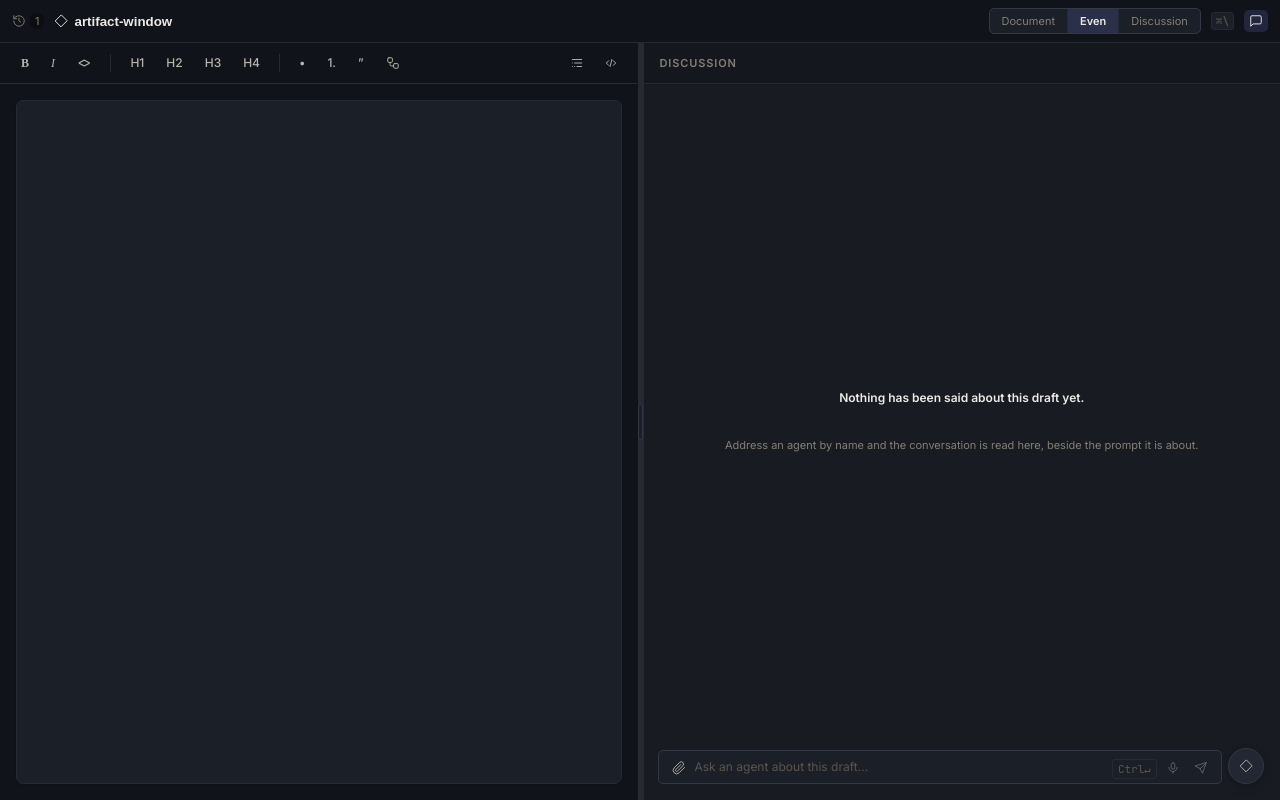
New Artifact workspace — Copy as Source › NAW-FR-NVYZ, NAW-FR-FJXX: an empty prompt copies empty text
The width and height of the screenshot is (1280, 800).
Click the button named "Draft actions" at (1246, 766), box [1228, 748, 1264, 784]
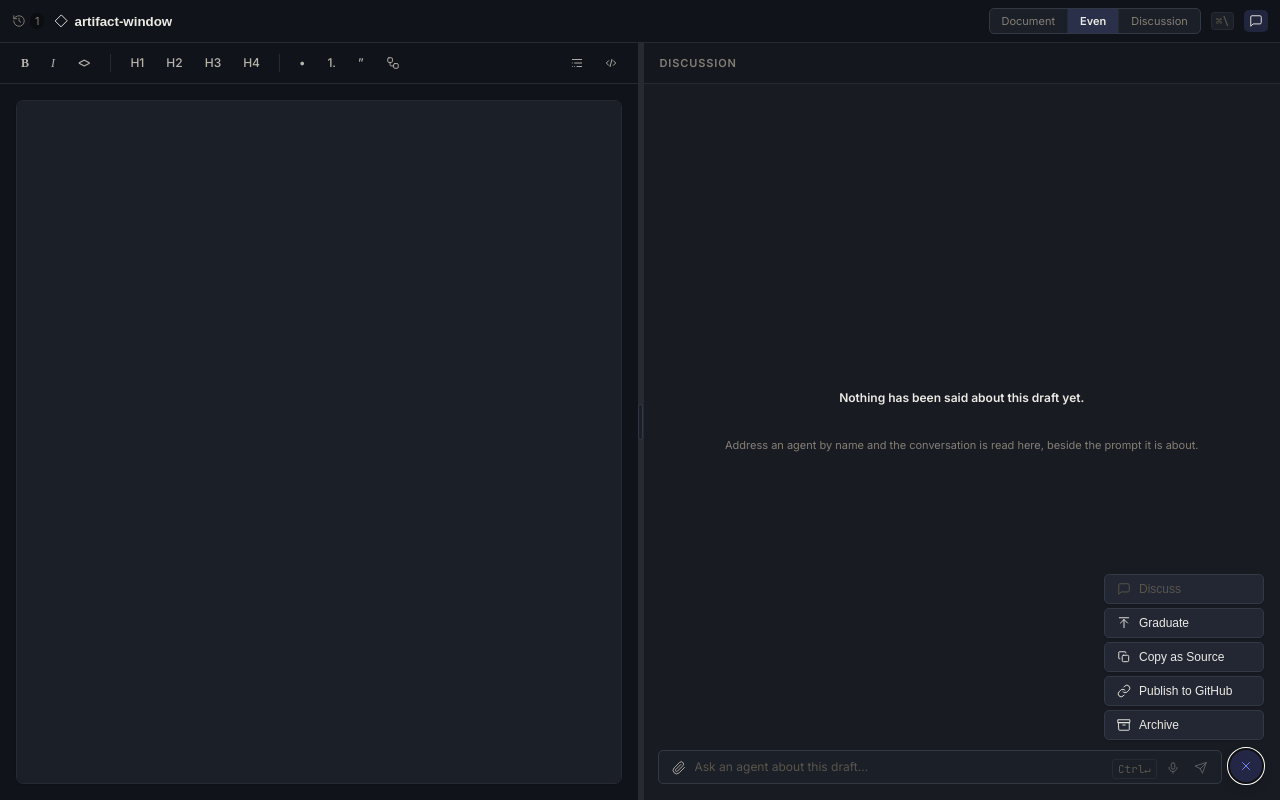
Expected: the menu item "Copy as Source" is enabled
Click the menu item "Copy as Source" at (1184, 657), box [1104, 642, 1264, 672]
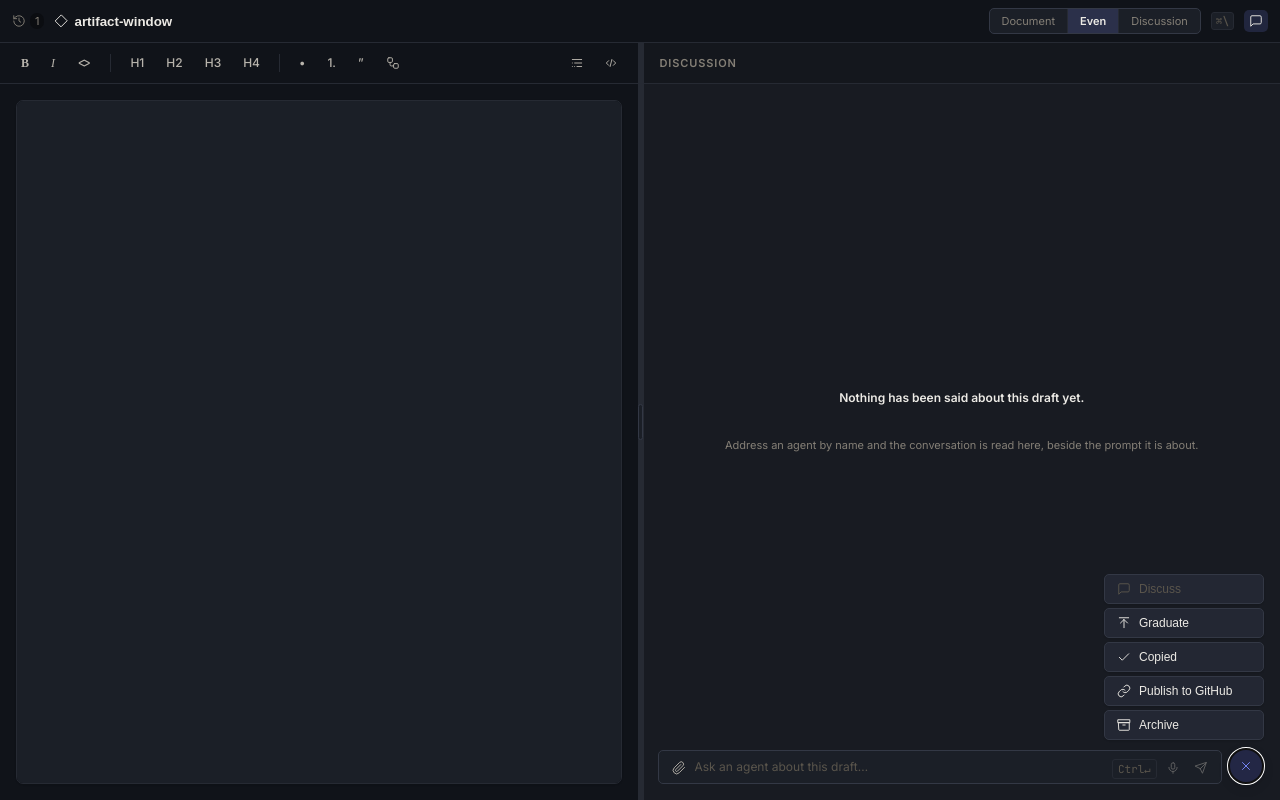
Expected: the menu item "Copied" is shown, [1104, 642, 1264, 672]
